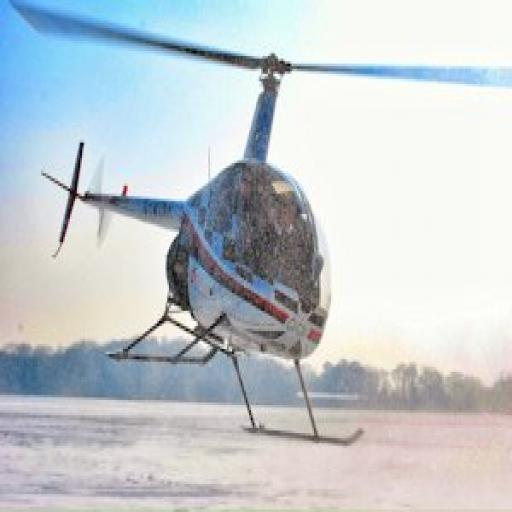helicopter: (18, 6, 477, 447)
